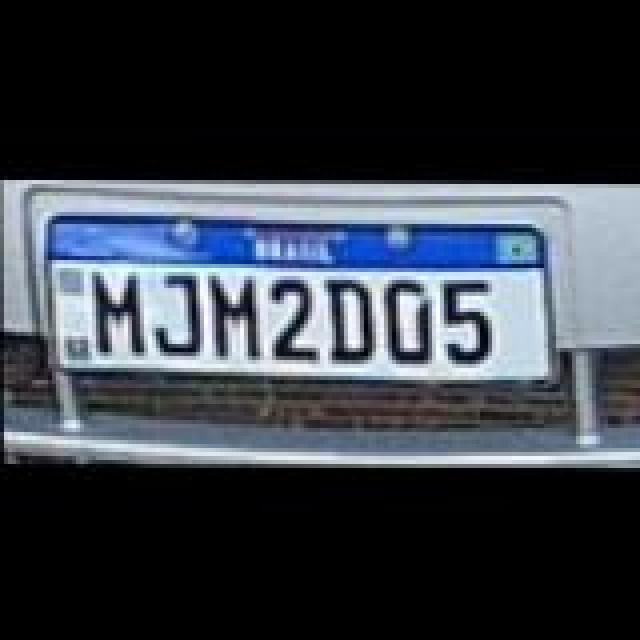2: (260, 276, 328, 360)
5: (434, 274, 498, 362)
D: (320, 276, 388, 360), (378, 274, 442, 362)
L: (138, 270, 210, 358)
M: (80, 264, 156, 352), (202, 270, 274, 358)
